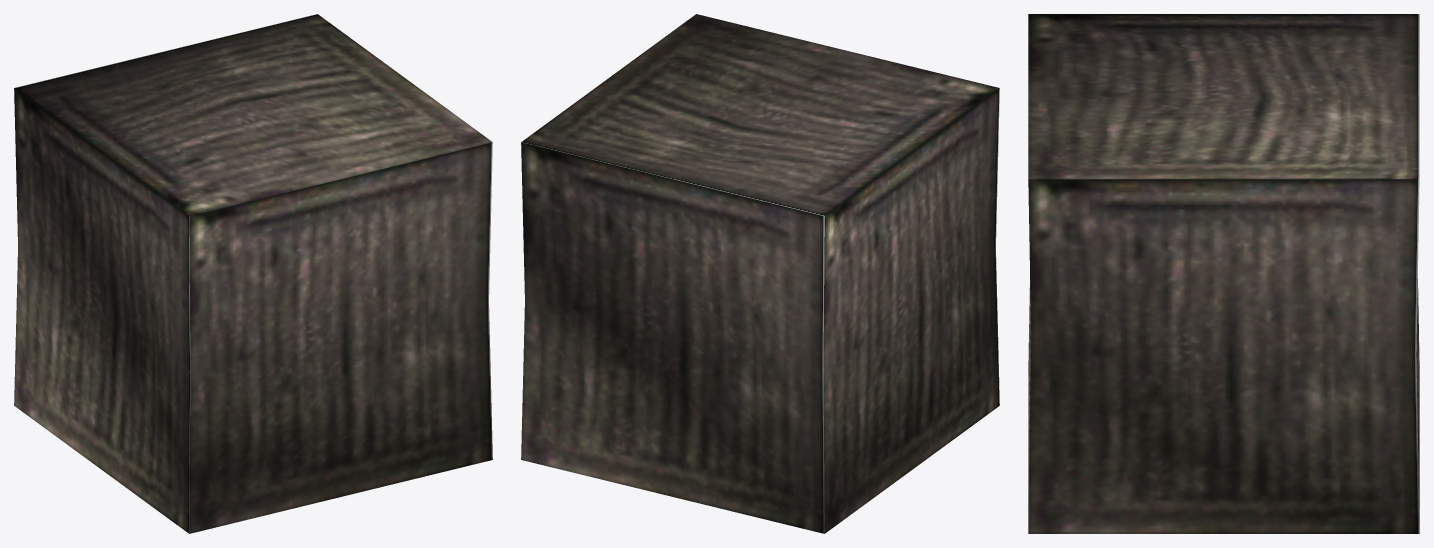
The model's file is Crate.fbx.
3 renders of one model, left to right at view 1: azimuth 30°, elevation 25°; view 2: azimuth 150°, elevation 25°; view 3: azimuth 270°, elevation 25°, orthographic. The views are drawn at different scales.
Parts seen in each view (by area): view 1: Crate; view 2: Crate; view 3: Crate.
Boxes of the visible parts, box(x1,y1,x2,y2) form: Crate: box(14, 14, 492, 533); Crate: box(521, 14, 999, 533); Crate: box(1028, 14, 1419, 533).
Size of the model in its own units: 101 by 100 by 100.
1 material, 1 textured.
